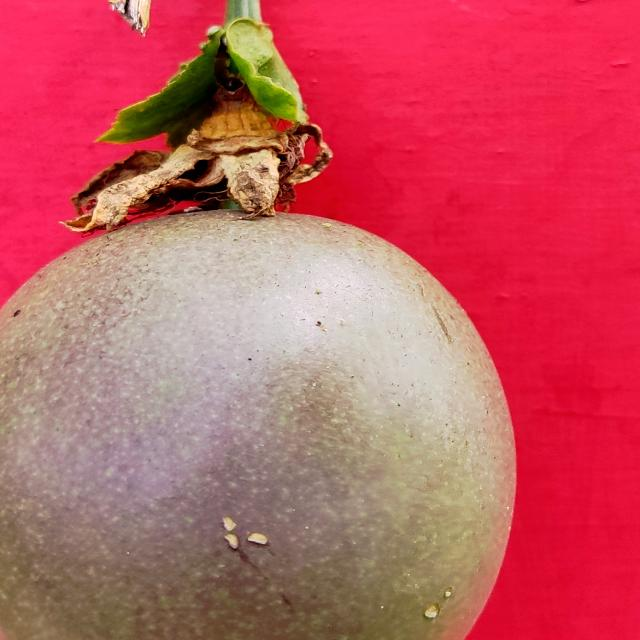Estado-2: (0, 1, 515, 640)
